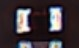COMP: (11, 5, 67, 36)
GAP: (18, 20, 62, 48)
